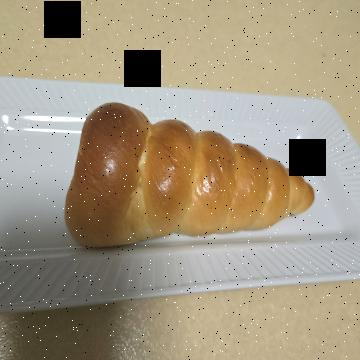cream horn: (101, 25, 273, 302)
